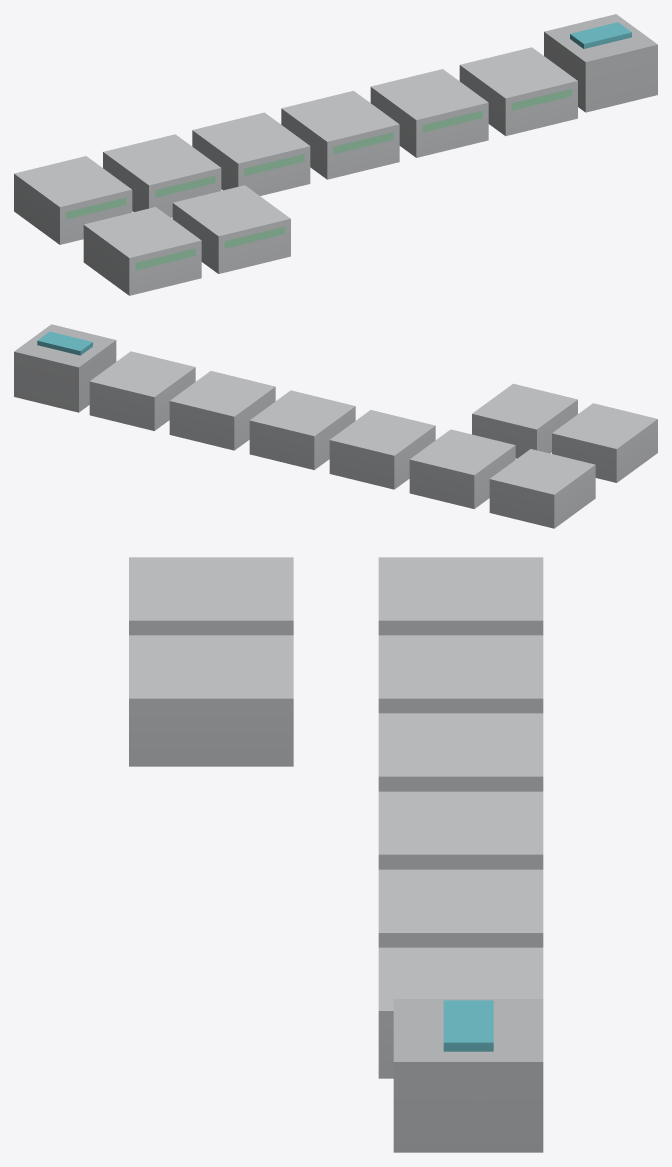
File: plant_battery_l2.glb
3 renders of one model, top to bottom at view 1: azimuth 30°, elevation 25°; view 2: azimuth 150°, elevation 25°; view 3: azimuth 270°, elevation 25°, orthographic. The views are drawn at different scales.
Visible parts, largest first — view 1: plant_battery_l2; view 2: plant_battery_l2; view 3: plant_battery_l2.
Boxes of the visible parts, bbox=[...] form: plant_battery_l2: bbox=[14, 14, 657, 295]; plant_battery_l2: bbox=[14, 324, 657, 528]; plant_battery_l2: bbox=[129, 557, 543, 1152].
Size of the model in its own units: 50 by 4.4 by 16.62.
